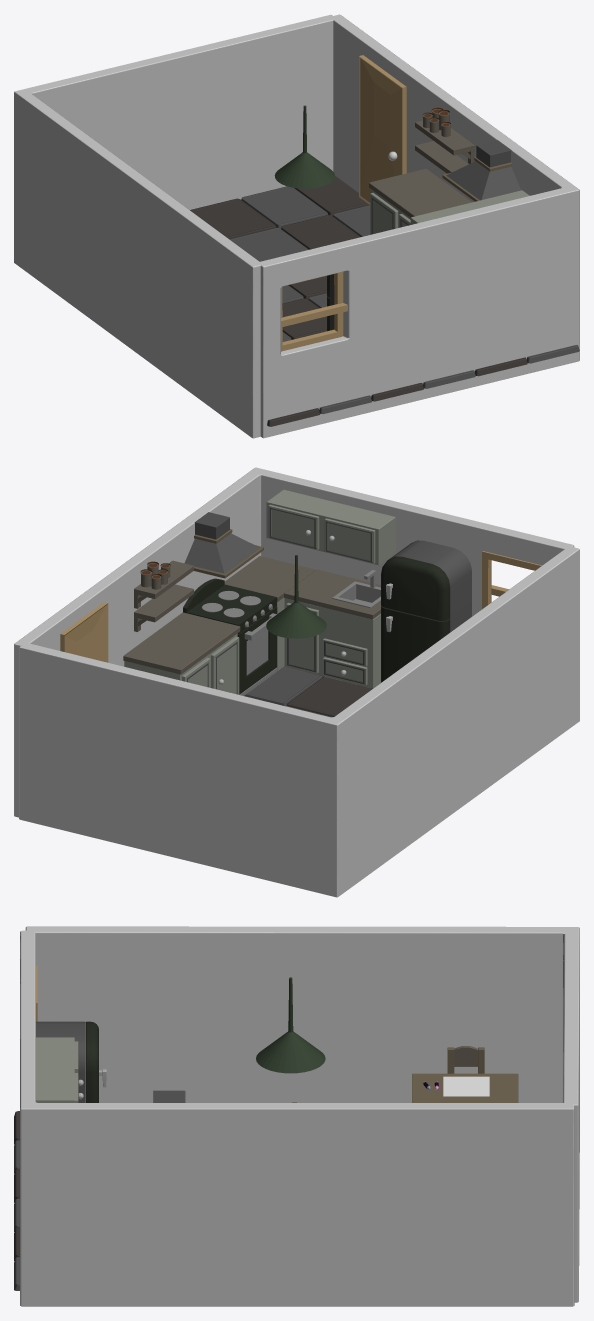
File: kök.fbx
3 renders of one model, top to bottom at view 1: azimuth 30°, elevation 25°; view 2: azimuth 150°, elevation 25°; view 3: azimuth 270°, elevation 25°, orthographic. The views are drawn at different scales.
Visible parts, largest first — view 1: Wall.002, Wall.001, Floor tile, Cube, Counter, Hood, Cylinder, Wall shelf, Hang shelf.001, Hang shelf, Cube.001, Wood jar (+1 smaller); view 2: Wall.002, Wall.001, Fridge, Counter with sink, Wall shelf, Counter, Stove, Floor tile, Hood, Counter corner, Cube, Cylinder (+3 smaller); view 3: Wall.001, Wall.002, Wall shelf, Fridge, Table, Cylinder, Floor tile, papper, Chair.001.
Part boxes in pixels (left/top/right/bottom): Wall.002: left=14, top=14, right=333, bottom=438; Wall.001: left=260, top=14, right=579, bottom=438; Floor tile: left=190, top=176, right=579, bottom=426; Cube: left=359, top=55, right=406, bottom=204; Counter: left=369, top=168, right=471, bottom=234; Hood: left=442, top=140, right=521, bottom=201; Cylinder: left=274, top=105, right=334, bottom=188; Wall shelf: left=410, top=190, right=529, bottom=224; Hang shelf.001: left=415, top=120, right=474, bottom=163; Hang shelf: left=415, top=141, right=468, bottom=173; Cube.001: left=281, top=303, right=347, bottom=327; Wood jar: left=422, top=107, right=450, bottom=136; Wall.002: left=19, top=546, right=579, bottom=897; Wall.001: left=14, top=467, right=574, bottom=817; Fridge: left=381, top=540, right=471, bottom=682; Counter with sink: left=284, top=569, right=380, bottom=688; Wall shelf: left=266, top=489, right=395, bottom=565; Counter: left=123, top=612, right=240, bottom=694; Stove: left=183, top=578, right=277, bottom=695; Floor tile: left=244, top=666, right=372, bottom=717; Hood: left=184, top=512, right=263, bottom=578; Counter corner: left=224, top=556, right=315, bottom=671; Cube: left=60, top=602, right=108, bottom=662; Cylinder: left=266, top=555, right=326, bottom=638; Wall.001: left=20, top=930, right=574, bottom=1306; Wall.002: left=25, top=926, right=579, bottom=1302; Wall shelf: left=36, top=1037, right=83, bottom=1102; Fridge: left=36, top=1021, right=106, bottom=1102; Table: left=412, top=1073, right=518, bottom=1102; Cylinder: left=256, top=977, right=325, bottom=1073; Floor tile: left=14, top=1111, right=19, bottom=1290; papper: left=443, top=1076, right=489, bottom=1096; Chair.001: left=447, top=1046, right=484, bottom=1073.
Bounding box in the file's own units: 990 × 606 × 1292.
